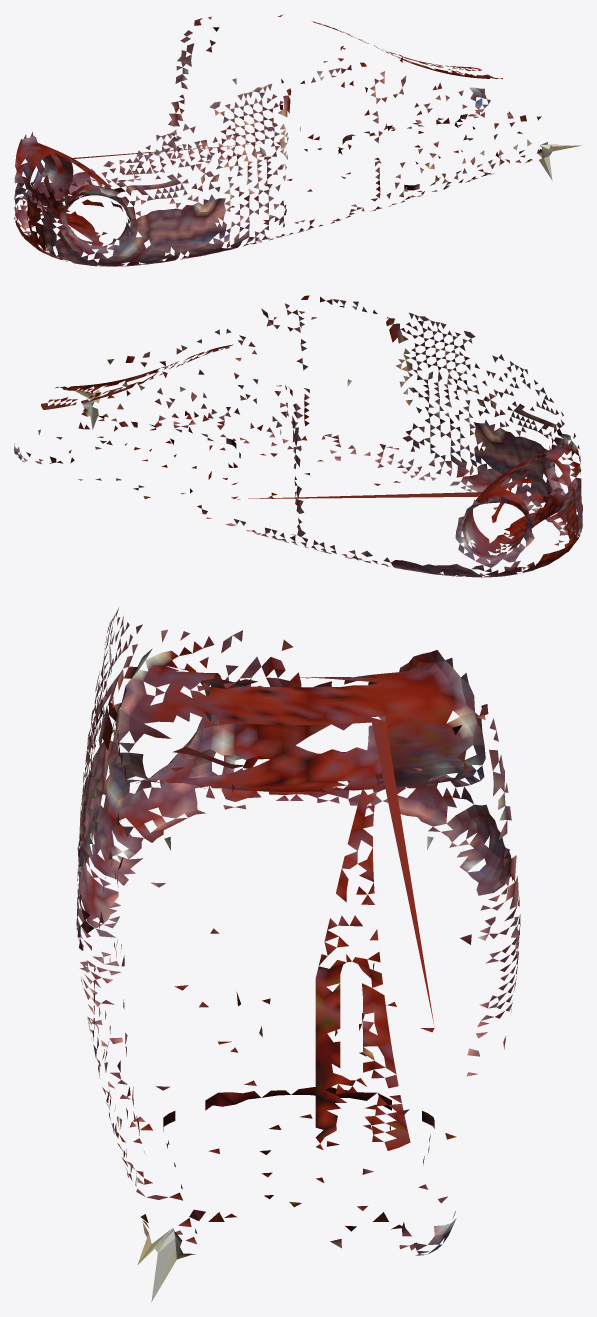
3 renders of one model, top to bottom at view 1: azimuth 30°, elevation 25°; view 2: azimuth 150°, elevation 25°; view 3: azimuth 270°, elevation 25°, orthographic. The views are drawn at different scales.
Size of the model in its own units: 2.01 by 0.6537 by 0.749.
